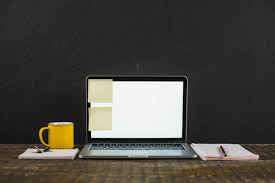Note: (87, 79, 113, 104), (88, 107, 112, 130)
